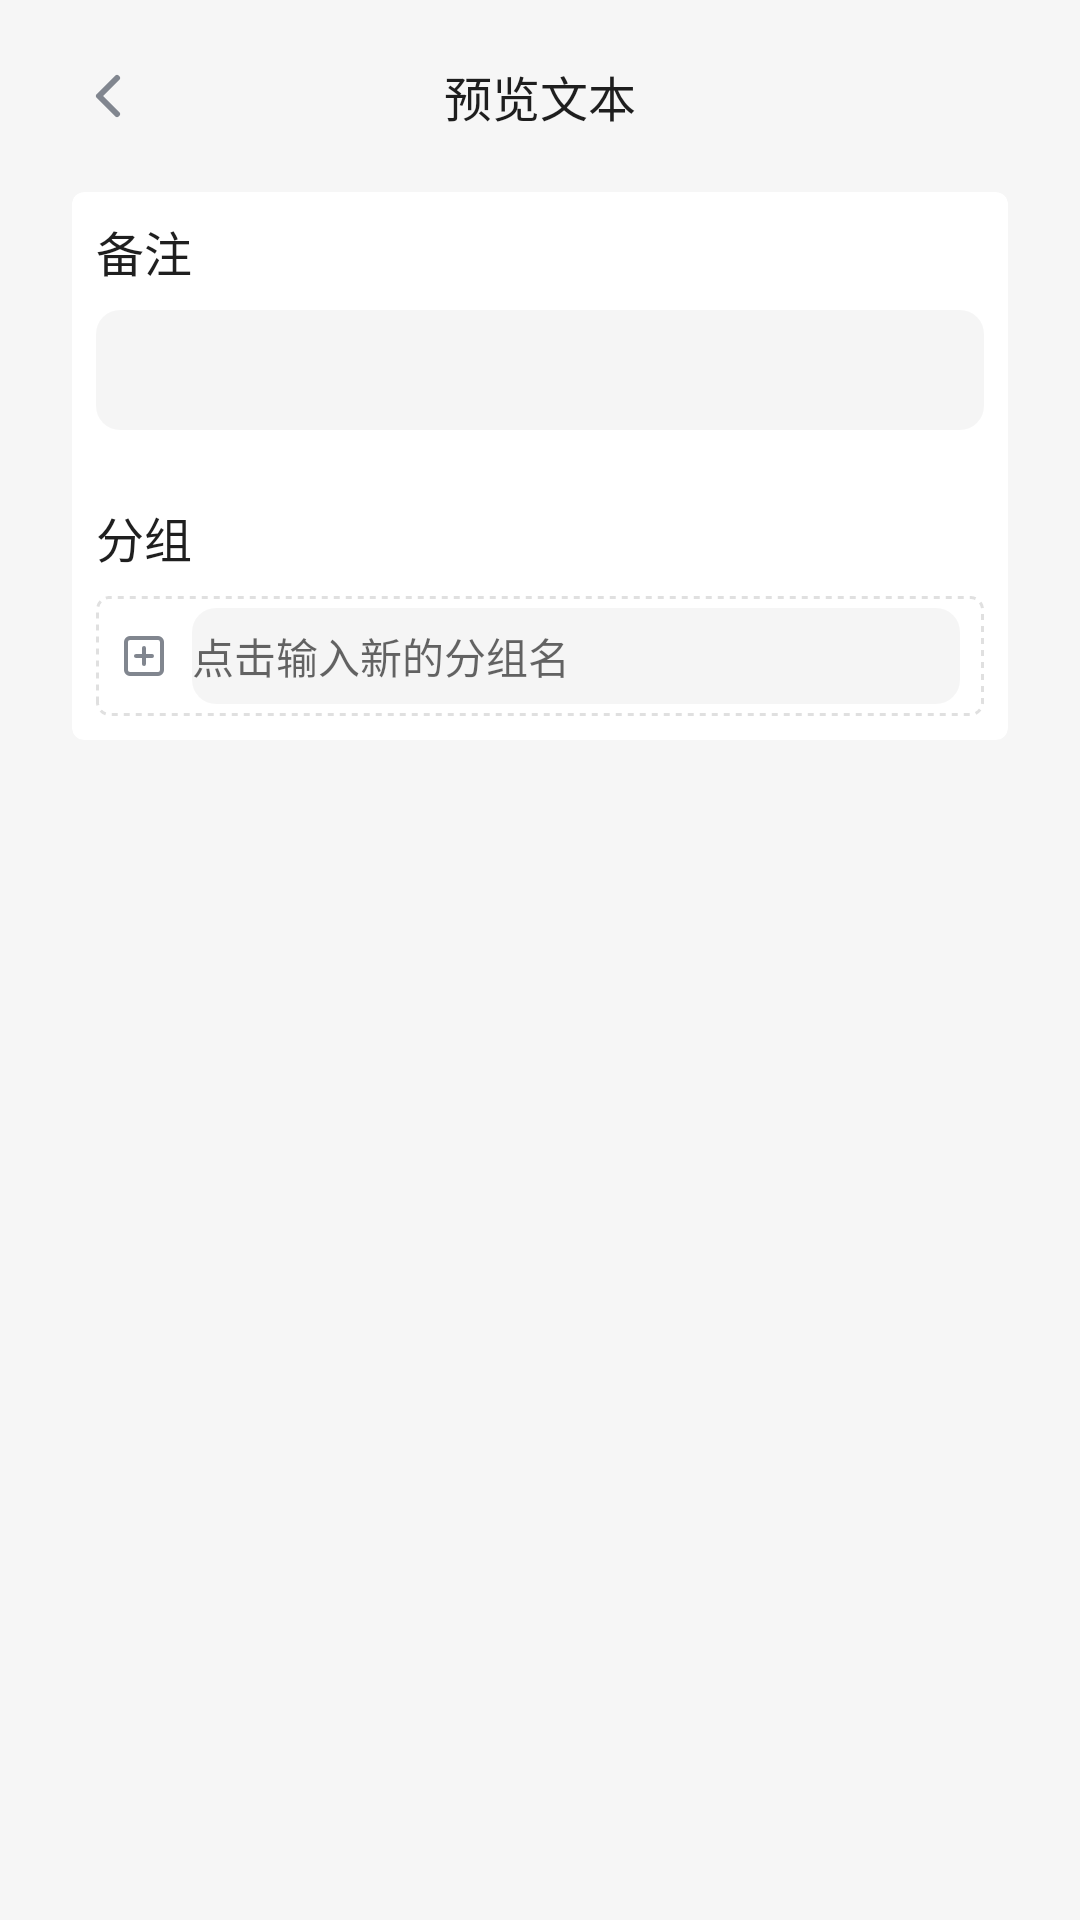

Icon click points for this 1080*1920 phone screenshot, format [x,y]:
chevron left: [108,96]
plus square: [144,656]
